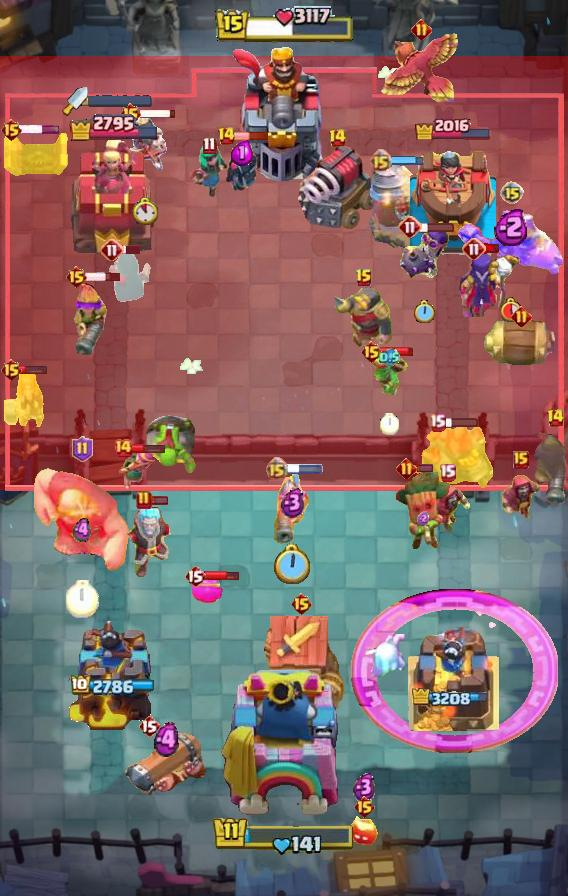archer: (117, 445, 155, 493)
bandit: (106, 251, 152, 305)
bar: (8, 124, 61, 135), (204, 569, 240, 582), (85, 271, 122, 283), (443, 416, 479, 428), (419, 221, 455, 233), (140, 108, 177, 119), (389, 155, 425, 166), (131, 443, 166, 454), (13, 364, 48, 375), (285, 464, 323, 474), (380, 346, 414, 357), (234, 131, 269, 141), (122, 244, 142, 255), (150, 495, 169, 506), (415, 463, 434, 473), (484, 243, 501, 254)
bar-level: (100, 238, 124, 262), (462, 237, 486, 261), (398, 215, 422, 239), (500, 181, 524, 205), (353, 795, 376, 819), (290, 592, 313, 616), (0, 358, 23, 382), (360, 340, 383, 364), (65, 265, 88, 289), (0, 118, 23, 142), (119, 102, 142, 126), (72, 436, 93, 462), (265, 457, 288, 480), (369, 149, 392, 172), (138, 714, 160, 738), (184, 564, 206, 588), (396, 458, 417, 479), (511, 306, 532, 327), (411, 19, 432, 40), (113, 438, 133, 458), (546, 408, 565, 428), (328, 128, 347, 148), (217, 126, 236, 146), (355, 268, 373, 288), (439, 463, 456, 482), (429, 413, 446, 432), (136, 490, 152, 510), (513, 451, 529, 469), (202, 136, 217, 155)
barbarian-barrel: (483, 319, 559, 369)
bomber-evolution: (398, 225, 452, 281)
clock: (274, 543, 312, 587), (66, 580, 99, 618), (132, 197, 158, 225), (414, 300, 436, 325), (501, 297, 523, 322), (380, 413, 399, 435)
dagger-duchess-tower: (70, 138, 158, 256)
dagger-duchess-tower-bar: (88, 95, 152, 107)
dart-goblin: (394, 472, 452, 552)
elixir: (494, 207, 530, 246), (154, 722, 179, 758), (281, 487, 305, 518), (353, 772, 376, 802), (231, 140, 253, 166), (73, 517, 91, 544), (379, 348, 400, 367), (417, 511, 429, 526)
elixir-golem-small: (192, 573, 224, 603)
fire-spirit: (350, 816, 378, 848)
goblin-ball: (145, 414, 199, 476)
ice-spirit: (363, 634, 407, 678)
ice-wizard: (115, 505, 191, 581)
king-tower: (219, 670, 349, 826), (230, 45, 338, 181)
king-tower-bar: (212, 815, 356, 857), (214, 6, 354, 45)
knight: (335, 286, 393, 349)
mini-pekka: (224, 141, 260, 195)
musketeer: (68, 279, 110, 359), (530, 428, 568, 506), (274, 472, 312, 544)
princess: (123, 116, 167, 176)
queen-tower: (66, 617, 162, 731), (407, 627, 499, 731), (410, 145, 496, 256)
rascal-girl: (189, 144, 229, 198)
spear-goblin: (368, 349, 410, 397)
tesla: (0, 131, 72, 179)
tower-bar: (68, 112, 160, 141), (414, 115, 493, 140), (71, 675, 157, 697), (412, 688, 494, 710)
valkyrie: (0, 368, 48, 430)
witch: (457, 251, 521, 317)
wizard: (422, 483, 472, 535), (499, 472, 543, 524)
